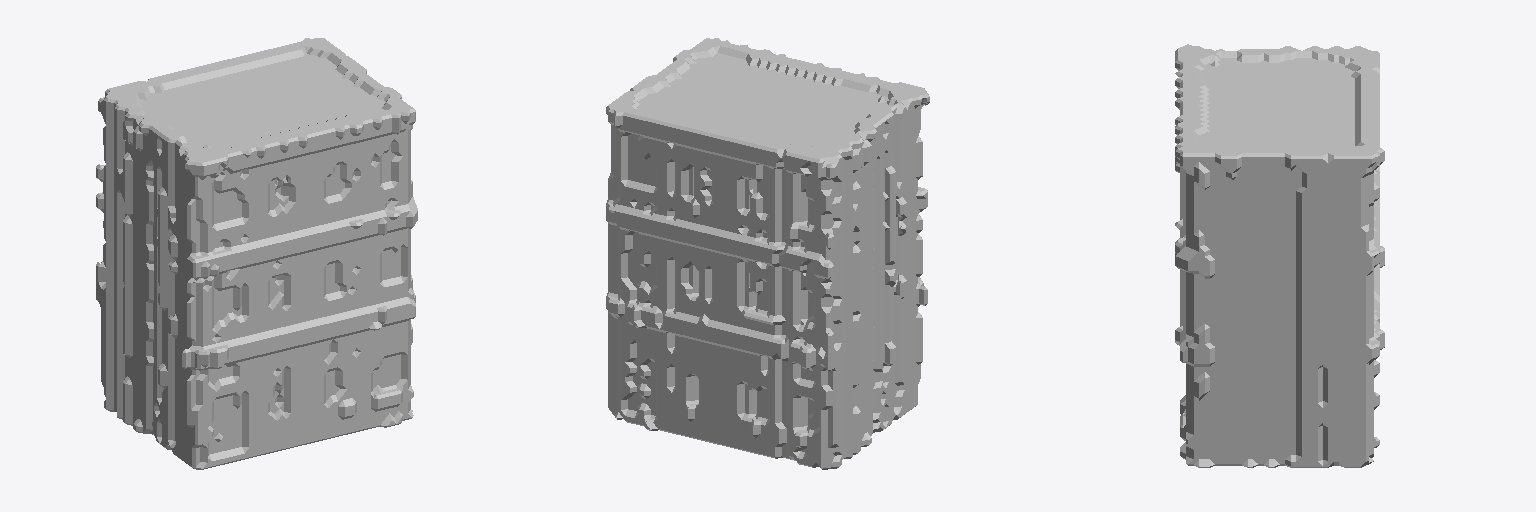
Rendered from gen5_colored.obj.
3 views of the same model, side by side, from view 1: azimuth 30°, elevation 25°; view 2: azimuth 150°, elevation 25°; view 3: azimuth 270°, elevation 25° (orthographic).
Visible parts, largest first — view 1: gen5.obj; view 2: gen5.obj; view 3: gen5.obj.
Boxes of the visible parts, x1=… form: gen5.obj: x1=96, y1=38, x2=417, y2=469; gen5.obj: x1=606, y1=38, x2=929, y2=469; gen5.obj: x1=1175, y1=44, x2=1384, y2=467.
Size of the model in its own units: 50 by 64 by 39.